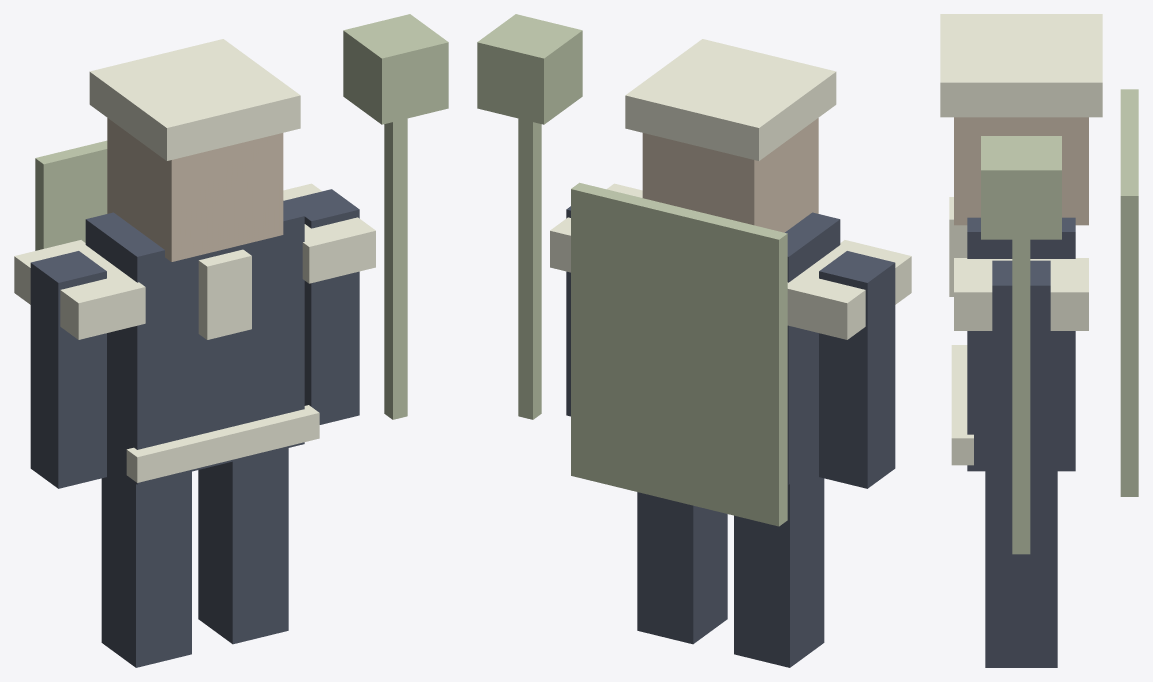
The model's file is 08_bryn_deepwell_broker_at_fuel.glb.
3 views of the same model, side by side, from view 1: azimuth 30°, elevation 25°; view 2: azimuth 150°, elevation 25°; view 3: azimuth 270°, elevation 25° (orthographic). The views are drawn at different scales.
Visible parts, largest first — view 1: Bryn Deepwell, Broker at Fuel; view 2: Bryn Deepwell, Broker at Fuel; view 3: Bryn Deepwell, Broker at Fuel.
Part boxes in pixels (left/top/right/bottom): Bryn Deepwell, Broker at Fuel: left=14, top=14, right=448, bottom=667; Bryn Deepwell, Broker at Fuel: left=477, top=14, right=911, bottom=667; Bryn Deepwell, Broker at Fuel: left=940, top=14, right=1138, bottom=667.
Bounding box in the file's own units: 1.1 × 1.51 × 0.467.
